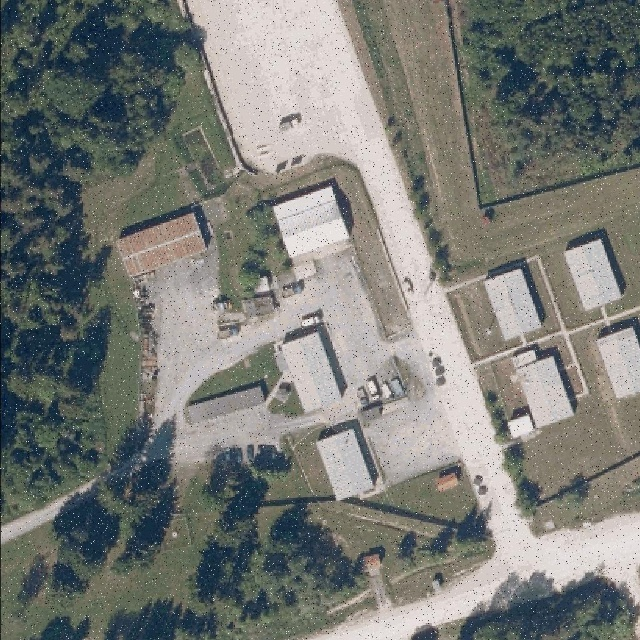vegetation: (38, 453, 367, 640), (456, 0, 640, 171), (452, 586, 636, 640)
